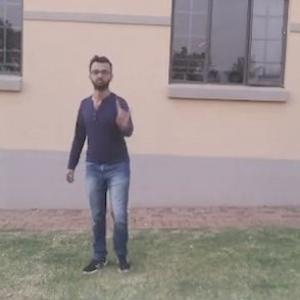takeoff-hand: (110, 92, 136, 132)
